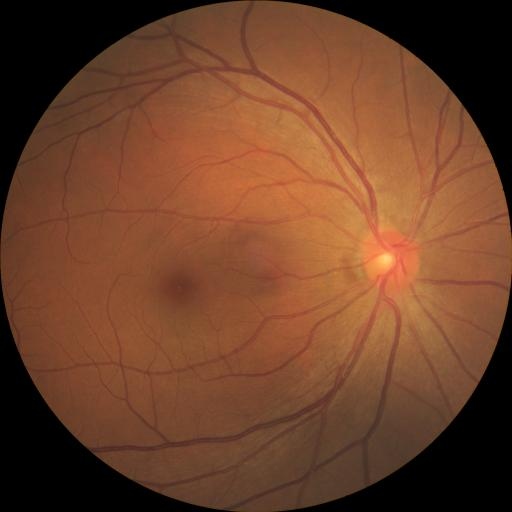Optic Cup: (375, 252, 395, 269)
Optic Disc: (362, 227, 419, 290)
